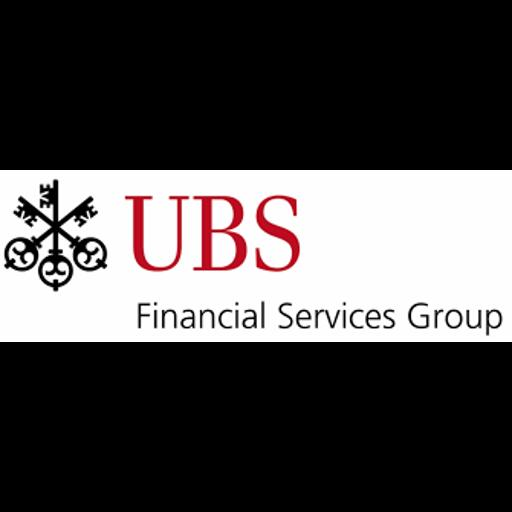UBS AG: (0, 170, 512, 342)
